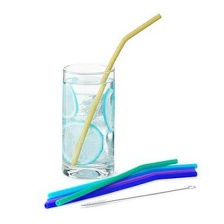drinking_straw: (68, 7, 164, 169)
glass: (56, 58, 119, 183)
